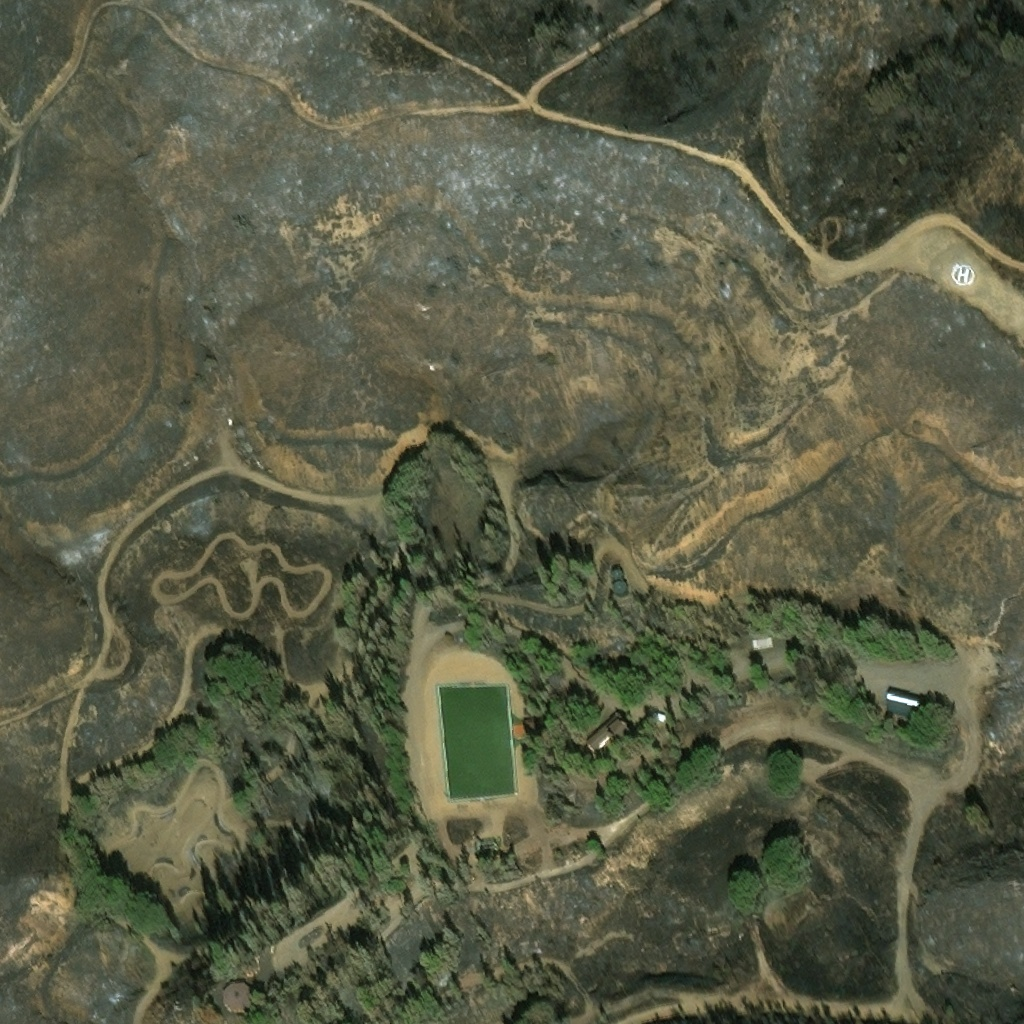0 no-damage: (583, 709, 633, 761), (882, 684, 924, 716), (221, 982, 254, 1015), (471, 833, 497, 856), (519, 708, 541, 724), (749, 629, 771, 645), (611, 577, 627, 593), (610, 565, 621, 577)
